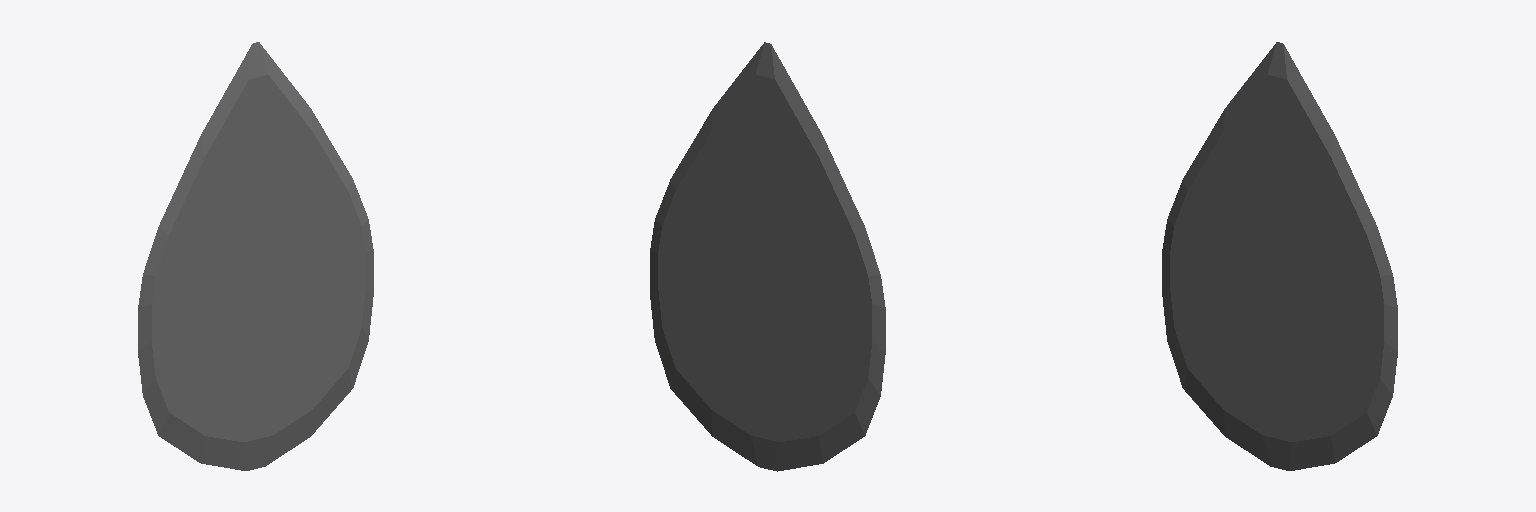
File: leaf.obj
The picture shows the model from 3 angles: view 1: azimuth 30°, elevation 25°; view 2: azimuth 150°, elevation 25°; view 3: azimuth 330°, elevation 25°; orthographic projection.
Visible parts, largest first — view 1: pPlane2; view 2: pPlane2; view 3: pPlane2.
Boxes of the visible parts, box(x1,y1,x2,y2) form: pPlane2: box(138, 42, 373, 470); pPlane2: box(650, 42, 885, 471); pPlane2: box(1162, 42, 1397, 470).
Bounding box in the file's own units: 0.4406 × 0.7616 × 0.0174.